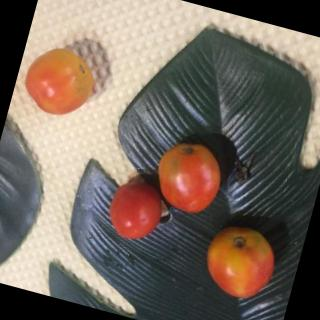Tomat: (189, 212, 289, 314), (14, 37, 108, 130), (146, 134, 231, 221), (96, 174, 176, 248)
